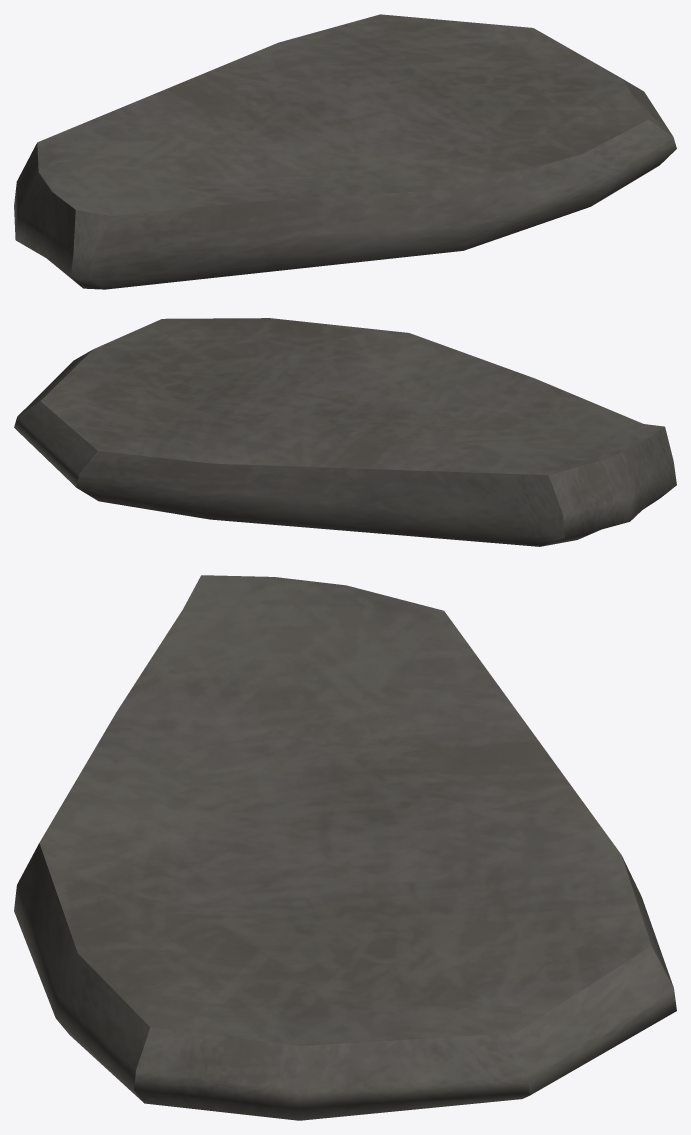
Rendered from ZachMesaRock35.fbx.
3 renders of one model, top to bottom at view 1: azimuth 30°, elevation 25°; view 2: azimuth 150°, elevation 25°; view 3: azimuth 270°, elevation 25°, orthographic. The views are drawn at different scales.
Visible parts, largest first — view 1: ZachMesaRock35; view 2: ZachMesaRock35; view 3: ZachMesaRock35.
Part boxes in pixels (x1,y1,x2,y2): ZachMesaRock35: [14, 14, 676, 289]; ZachMesaRock35: [14, 318, 676, 546]; ZachMesaRock35: [14, 575, 676, 1120].
Bounding box in the file's own units: 4.8 × 0.593 × 3.01.
